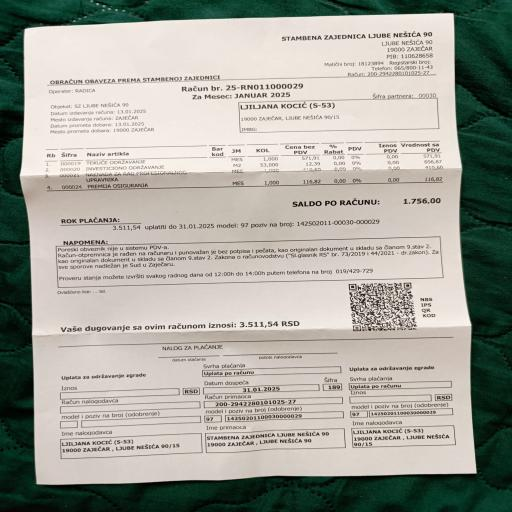stambena_zajednica: (58, 141, 445, 191)
stambena_zajednica_iznos: (56, 316, 307, 338)
